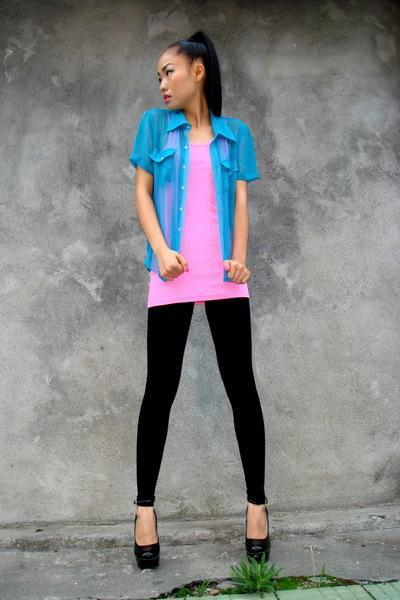shirt: (130, 107, 258, 284), (148, 141, 248, 306)
shoe: (134, 530, 270, 570)
